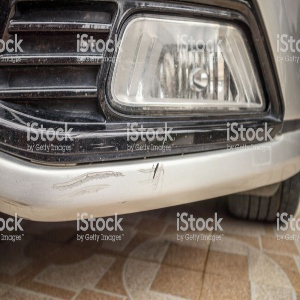bumper_scratch: (1, 163, 169, 209)
